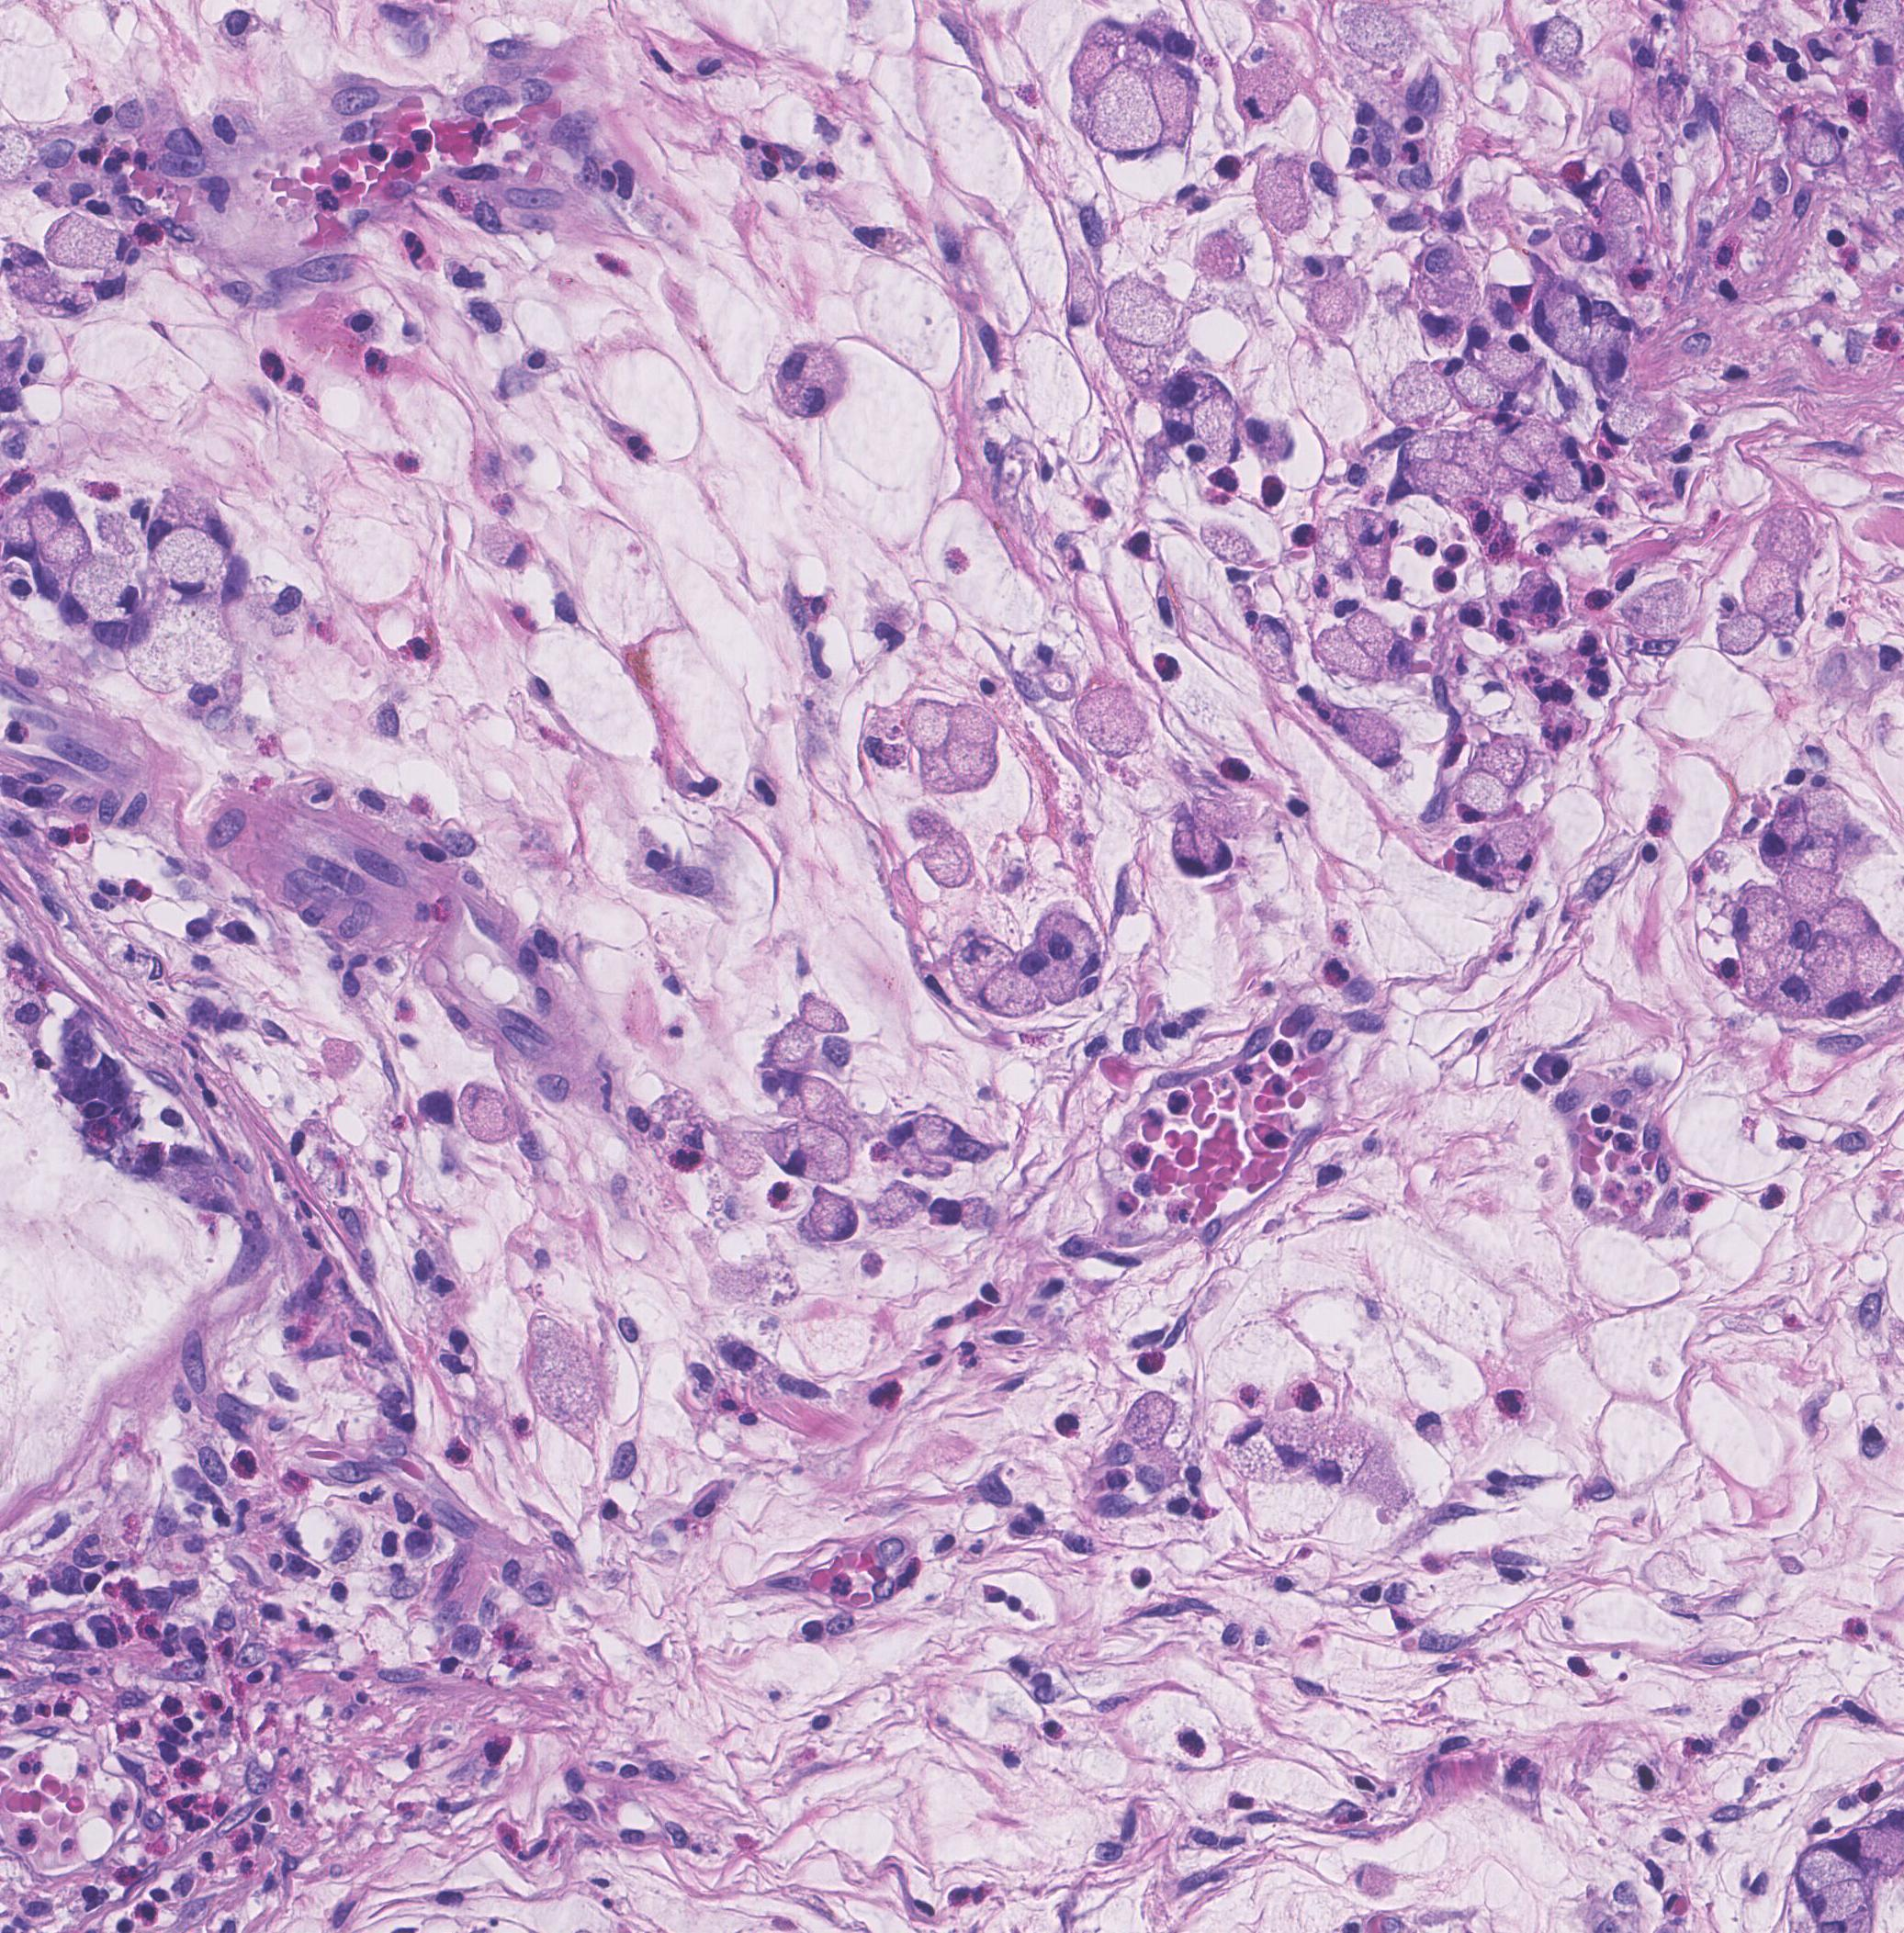ring_cell_cancer: (127, 584, 235, 702), (521, 1311, 615, 1447), (1088, 64, 1168, 167), (774, 1065, 874, 1138), (758, 1117, 860, 1189), (150, 521, 232, 605), (38, 211, 138, 277), (1735, 561, 1819, 638), (1778, 938, 1855, 1020), (772, 340, 847, 424), (1074, 683, 1154, 758), (75, 546, 148, 626), (907, 811, 980, 891), (942, 927, 1018, 995), (1730, 884, 1798, 957), (1015, 939, 1090, 1006), (457, 1079, 525, 1149), (1756, 793, 1815, 872), (919, 1107, 994, 1166), (1034, 913, 1104, 971), (886, 1119, 954, 1177), (872, 1175, 933, 1236), (980, 969, 1046, 1025), (1789, 1851, 1860, 1896), (807, 1185, 861, 1245), (21, 483, 80, 535), (767, 1014, 818, 1075), (1803, 1879, 1874, 1919), (799, 990, 854, 1035)
